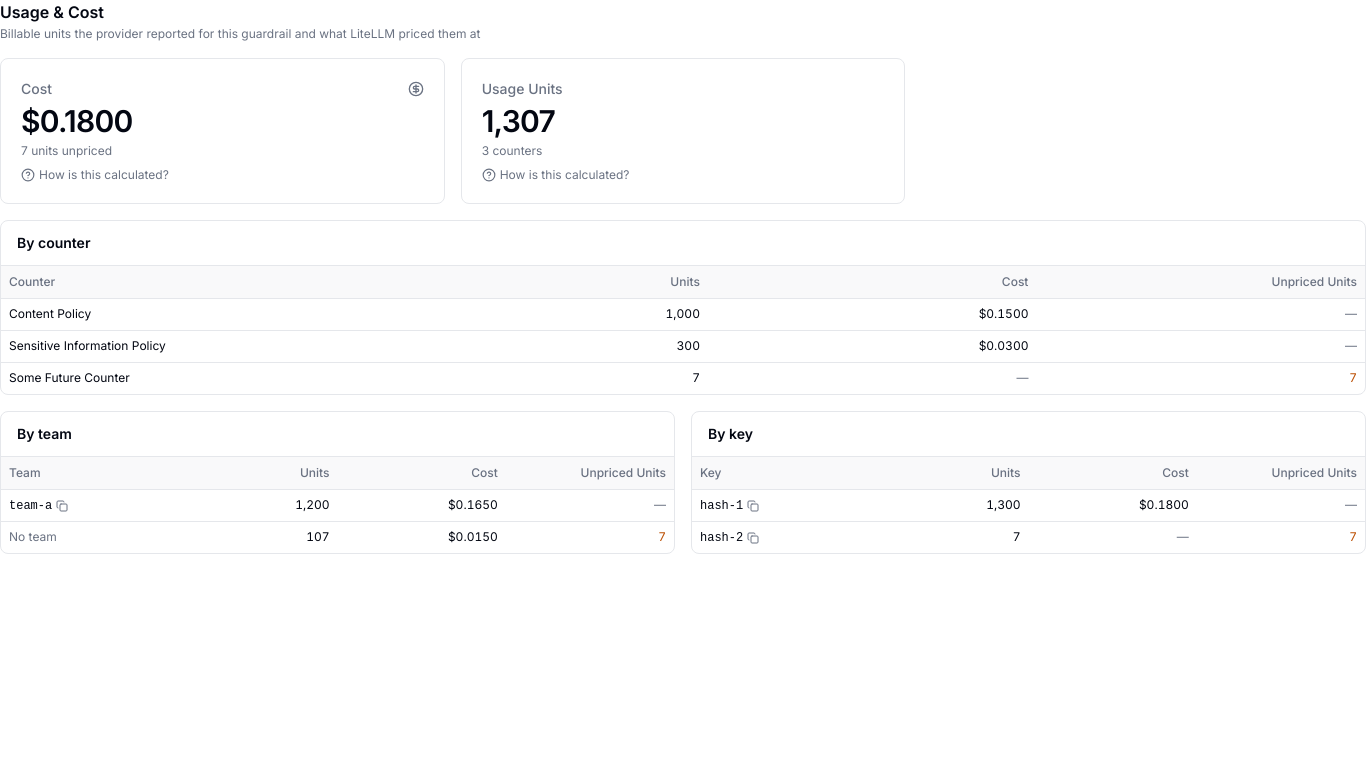
Scenario: GuardrailUsageBreakdown › lays the cost math out per counter as units × price = cost
Click the button "How is this calculated?" below "7 units unpriced": click(95, 175) [21, 167, 169, 183]
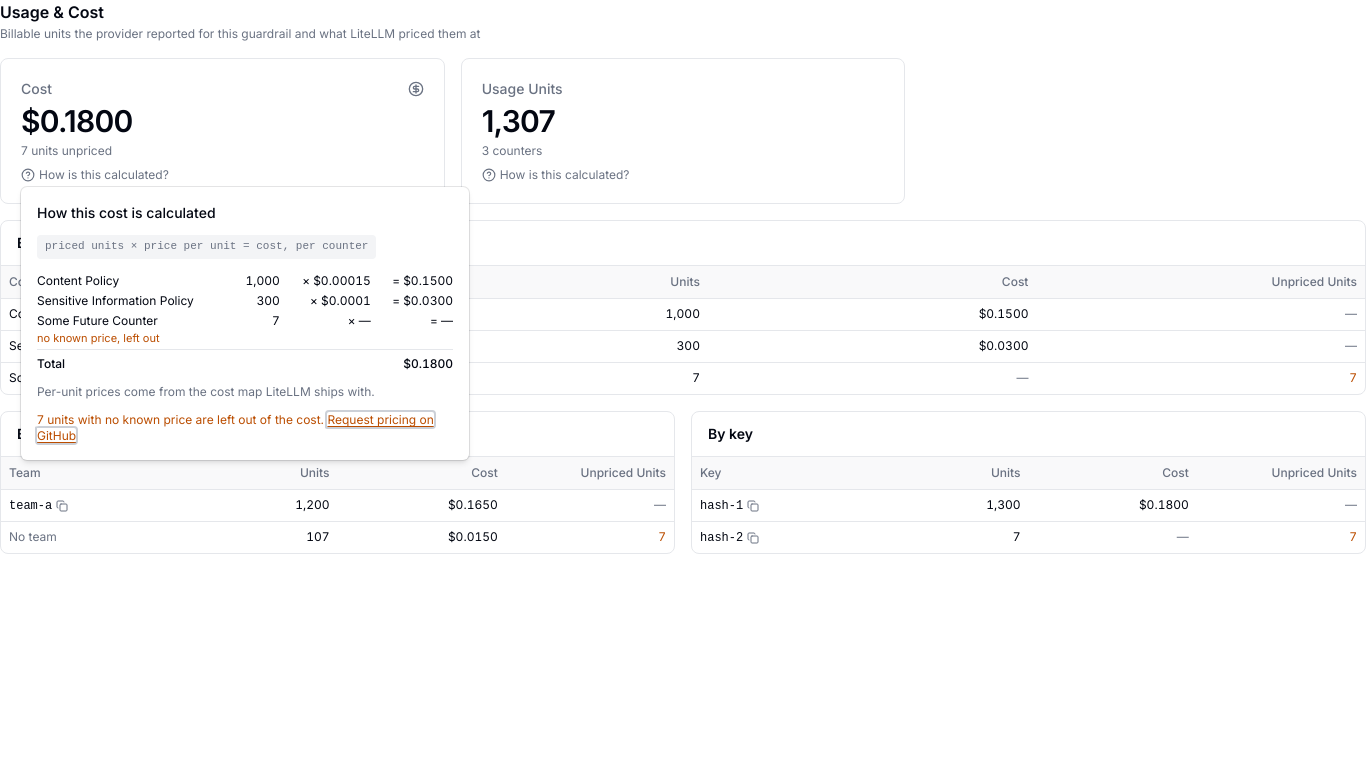
expect the text "7 units with no known price are left out of the cost" is shown: met, box [37, 412, 327, 427]
